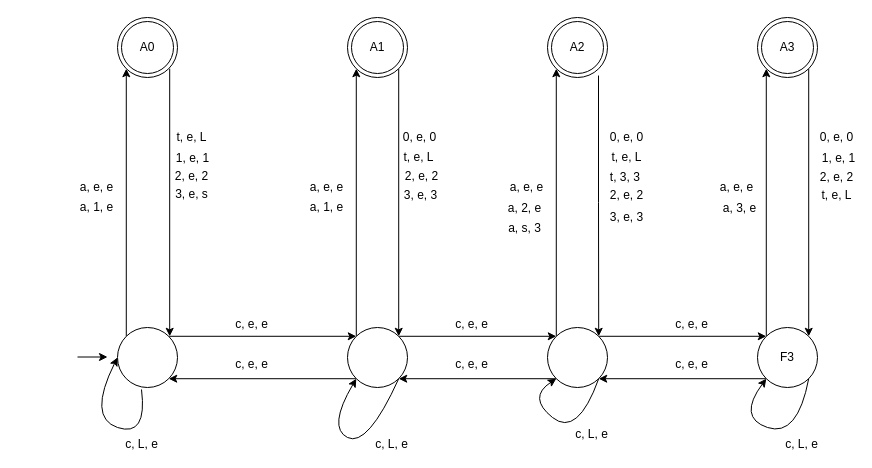
This 872x468 diagram has some shape labels left out. Here are the shapes that lost their labels. From the top down, the centre of each, then its label:
At (147,357): "F0".
At (377,357): "F1".
At (577,357): "F2".
